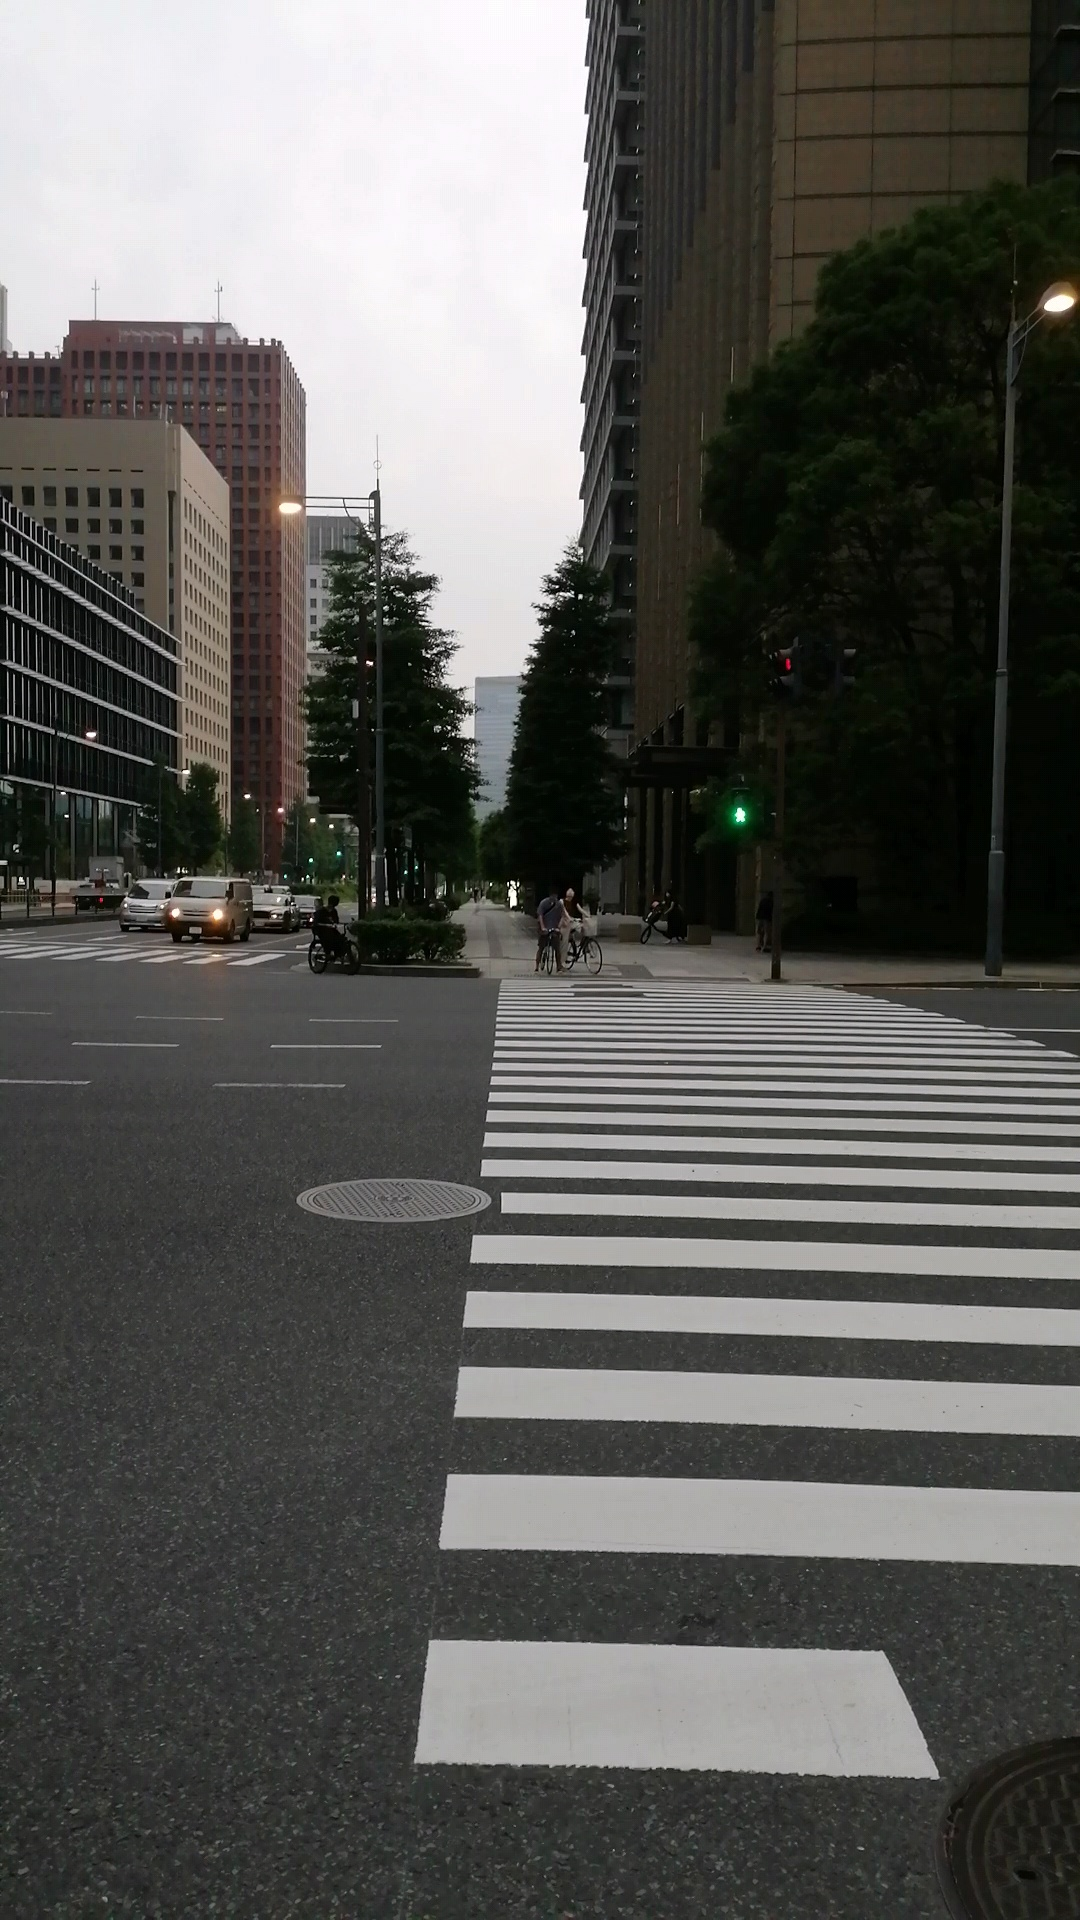green: (729, 786, 750, 828)
